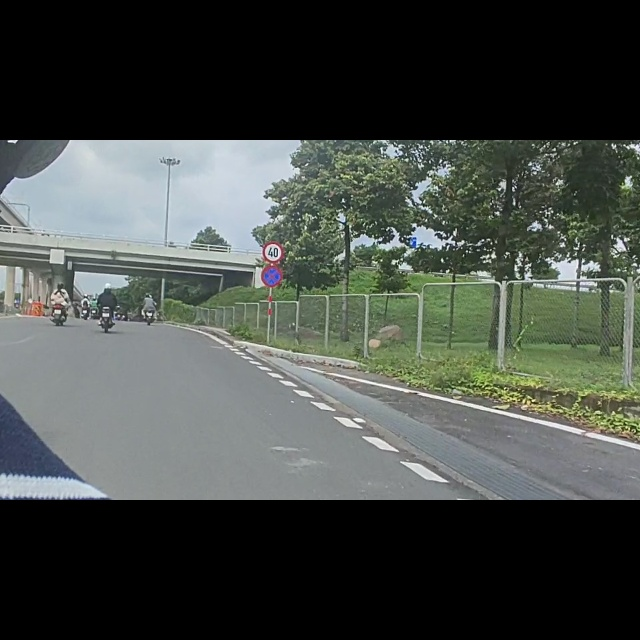bien_cam: (261, 223, 283, 262), (263, 181, 284, 219)
